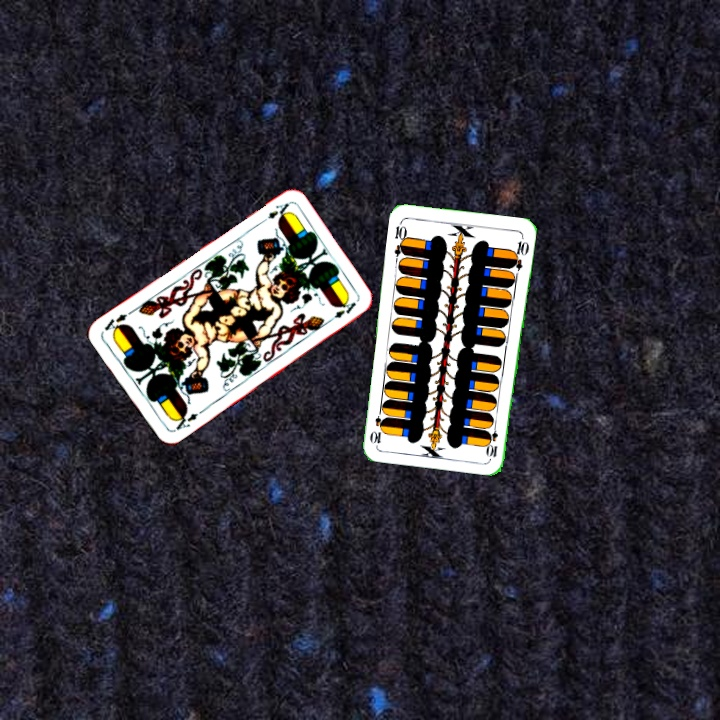E10: (390, 218, 410, 258), (485, 419, 501, 460)
EA: (256, 199, 292, 227), (169, 407, 201, 434)
